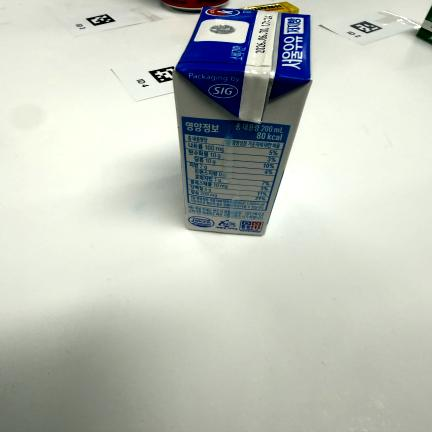milk_blue: (173, 7, 312, 236)
